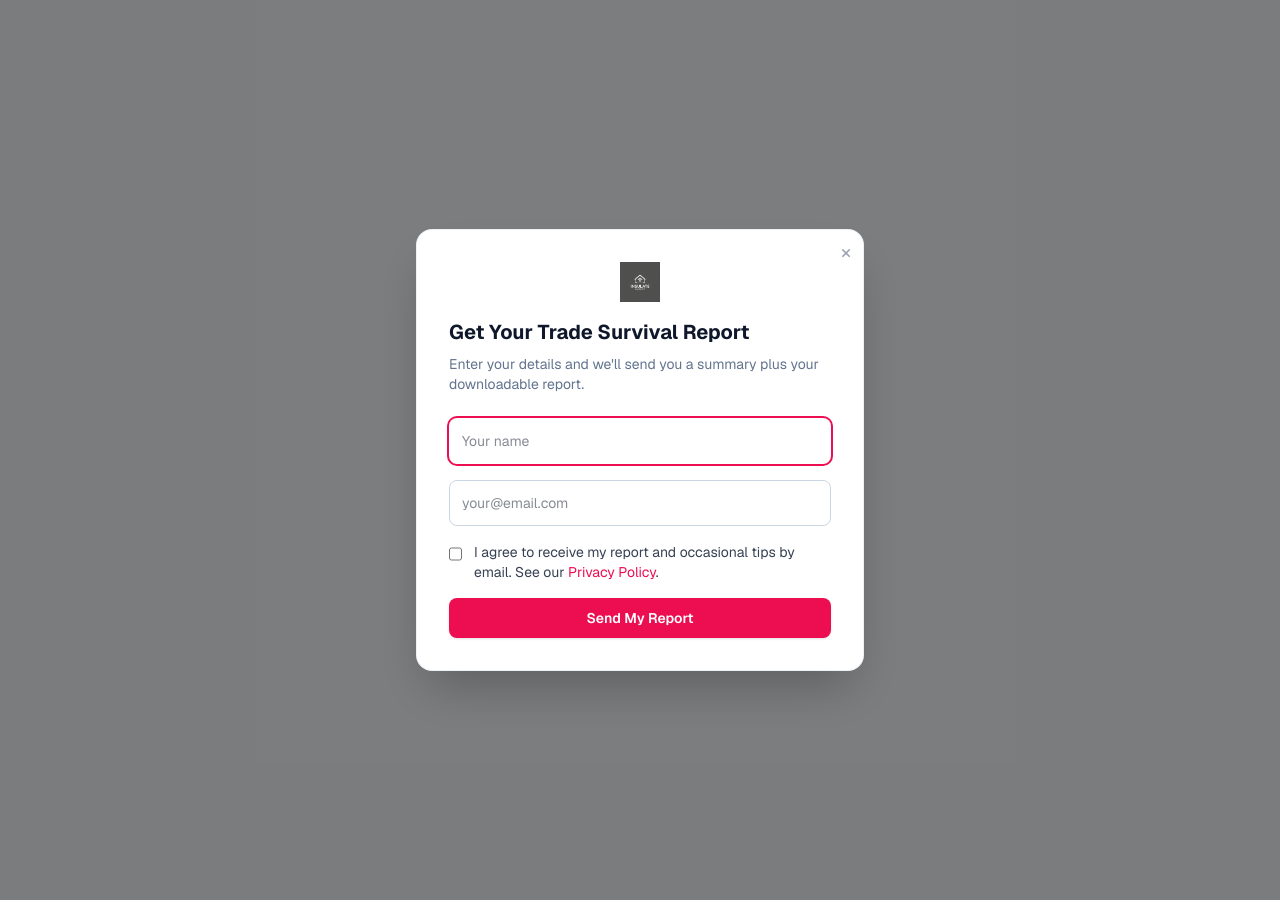
Test: EmailCaptureModal › shows validation error for empty email on submit
Click the button "Send My Report". click: coordinates (640, 618)
box: [449, 598, 831, 638]
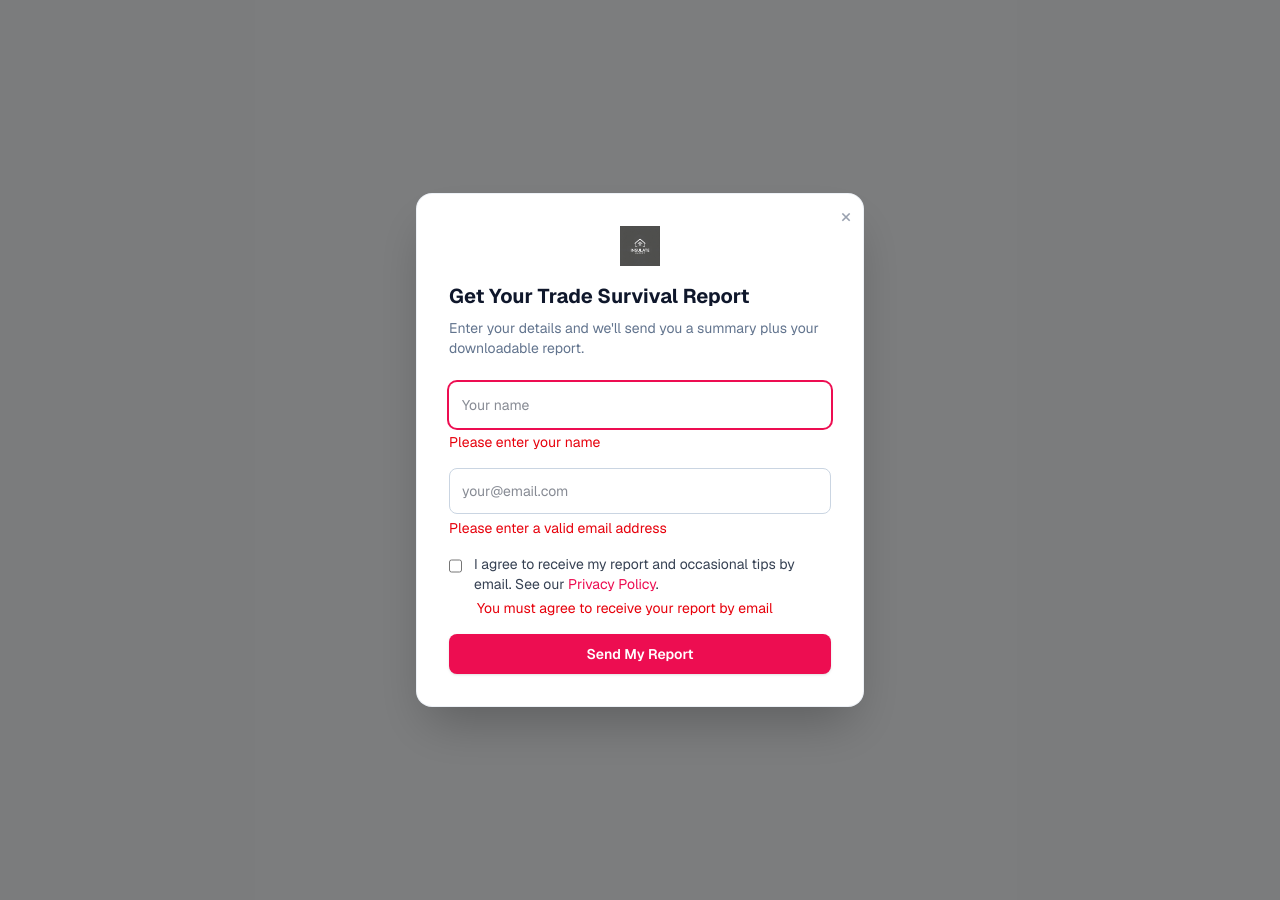
Check: the text "Please enter a valid email address" is shown, box [449, 519, 667, 537]
